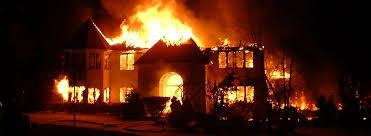fire: (104, 3, 209, 49), (55, 75, 115, 102), (158, 70, 183, 112)
